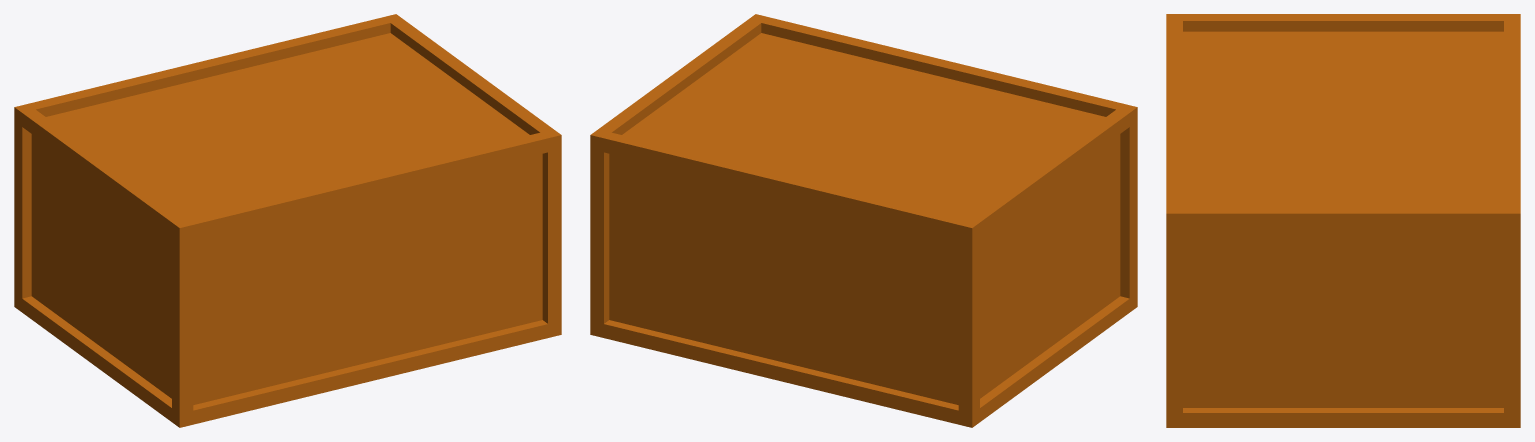
The model's file is Prop_Box_Wood_B.fbx.
3 renders of one model, left to right at view 1: azimuth 30°, elevation 25°; view 2: azimuth 150°, elevation 25°; view 3: azimuth 270°, elevation 25°, orthographic. The views are drawn at different scales.
Visible parts, largest first — view 1: Prop_Box_Wood_B; view 2: Prop_Box_Wood_B; view 3: Prop_Box_Wood_B.
Part boxes in pixels (box(x1,y1,x2,y2)): Prop_Box_Wood_B: box(14, 14, 561, 427); Prop_Box_Wood_B: box(590, 14, 1137, 427); Prop_Box_Wood_B: box(1166, 14, 1520, 427).
Bounding box in the file's own units: 58.74 × 78.32 × 39.16.
